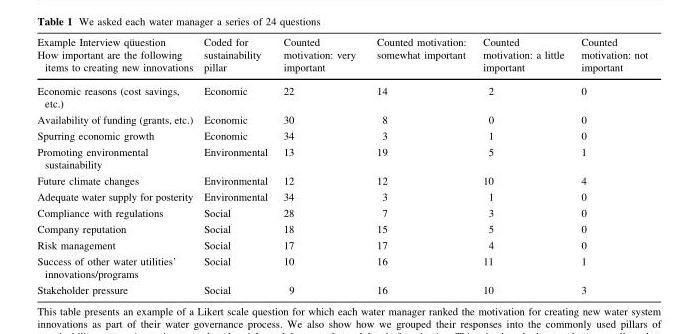table: (36, 37, 647, 295)
table column: (36, 37, 197, 295), (365, 37, 473, 295), (473, 37, 572, 295), (274, 37, 365, 295), (197, 37, 274, 295), (572, 37, 647, 295)
table column header: (36, 37, 647, 79)
table row: (36, 37, 647, 79), (36, 79, 647, 111), (36, 253, 647, 282), (36, 144, 647, 172), (36, 127, 647, 144), (36, 172, 647, 189), (36, 111, 647, 127), (36, 189, 647, 205), (36, 205, 647, 221), (36, 221, 647, 237), (36, 237, 647, 253), (36, 282, 647, 295)
